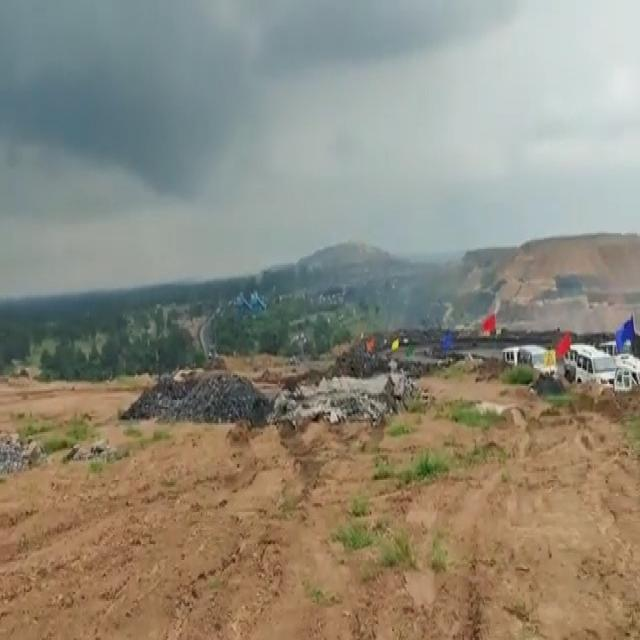light_vehicle: (578, 352, 610, 389), (522, 344, 553, 380), (502, 346, 516, 368), (567, 346, 574, 386)
